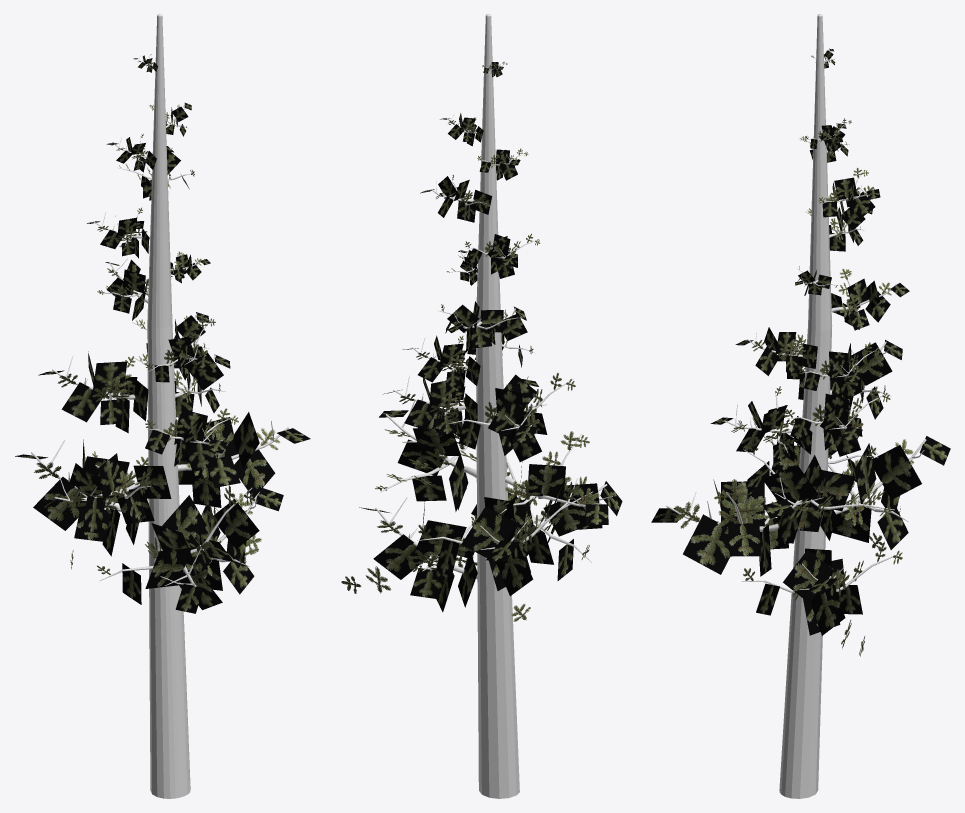
The model's file is Little pine tree combined low poly.fbx.
3 renders of one model, left to right at view 1: azimuth 30°, elevation 25°; view 2: azimuth 150°, elevation 25°; view 3: azimuth 270°, elevation 25°, orthographic. The views are drawn at different scales.
Parts seen in each view (by area): view 1: polySurface2654; view 2: polySurface2654; view 3: polySurface2654.
Boxes of the visible parts, <box> form: polySurface2654: <box>15,14,310,798</box>; polySurface2654: <box>341,14,622,798</box>; polySurface2654: <box>651,14,950,798</box>.
Bounding box in the file's own units: 7.54 × 22.5 × 7.87.
